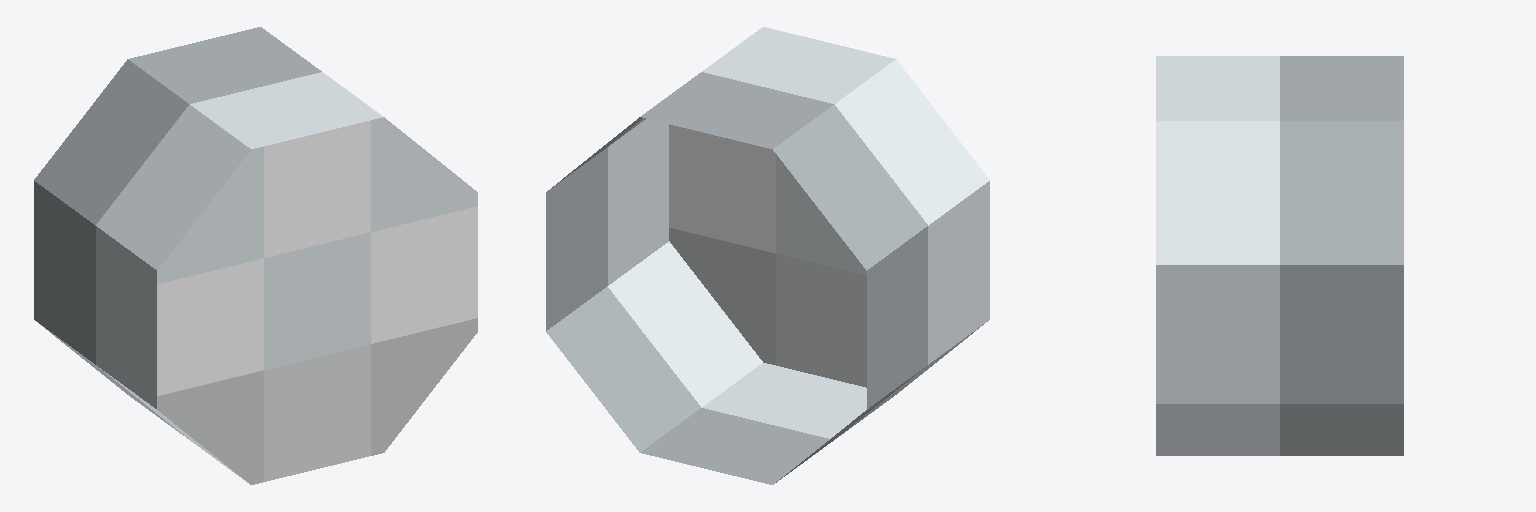
3 views of the same model, side by side, from view 1: azimuth 30°, elevation 25°; view 2: azimuth 150°, elevation 25°; view 3: azimuth 270°, elevation 25° (orthographic).
Visible parts, largest first — view 1: smallbutton; view 2: smallbutton; view 3: smallbutton.
Boxes of the visible parts, x1=… form: smallbutton: x1=34, y1=27, x2=477, y2=484; smallbutton: x1=546, y1=27, x2=989, y2=484; smallbutton: x1=1156, y1=56, x2=1403, y2=455.
Bounding box in the file's own units: 0.1875 × 0.1875 × 0.125.
1 materials, 1 textured.